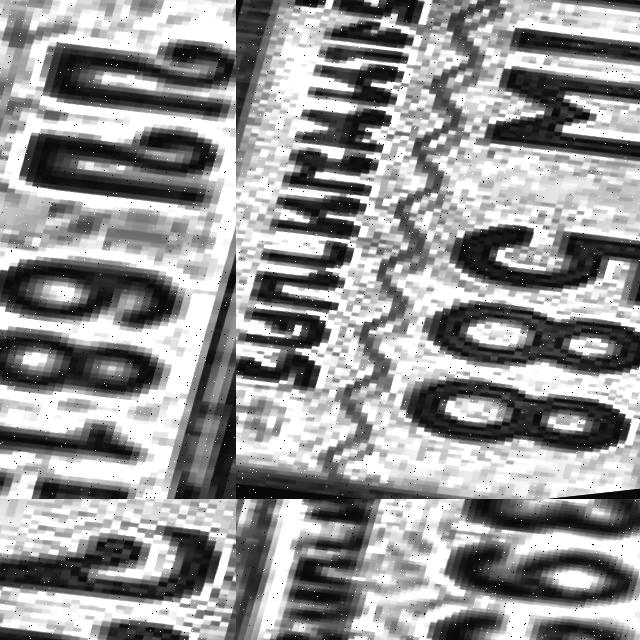license-plate: (236, 0, 640, 499), (0, 0, 236, 499), (236, 499, 640, 640), (0, 499, 236, 640)
